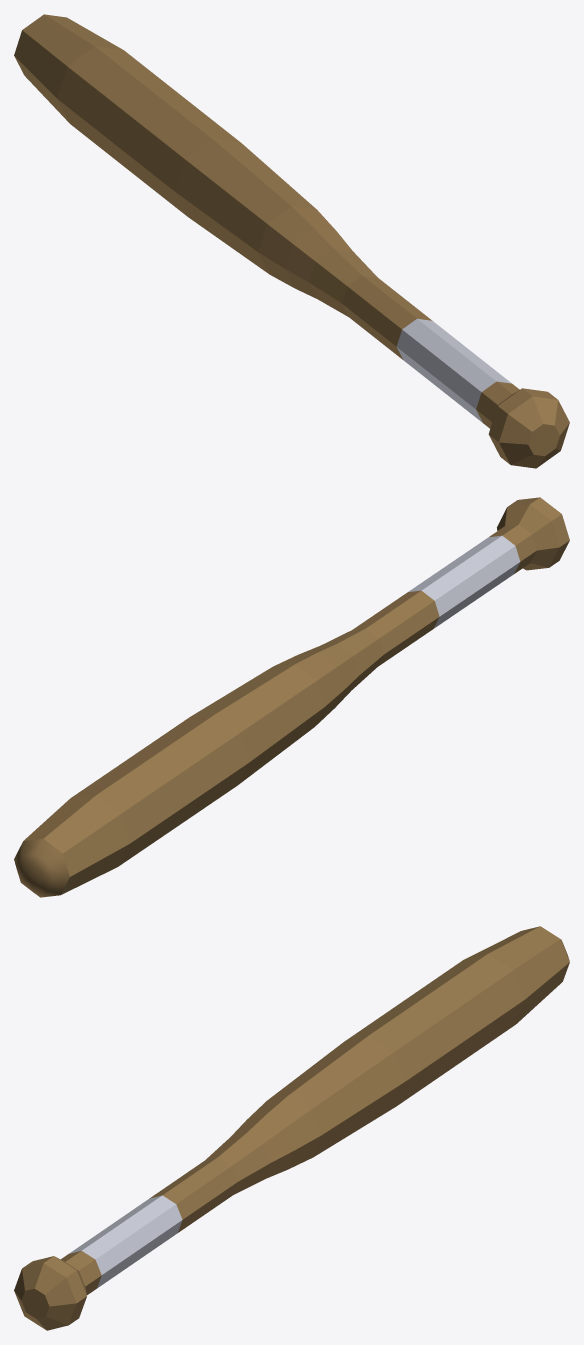
Rendered from Bat.fbx.
The picture shows the model from 3 angles, top to bottom: view 1: azimuth 30°, elevation 25°; view 2: azimuth 150°, elevation 25°; view 3: azimuth 330°, elevation 25°; orthographic projection. The views are drawn at different scales.
Visible parts, largest first — view 1: pCylinder1; view 2: pCylinder1; view 3: pCylinder1.
Boxes of the visible parts, x1,y1,x2,y2 form: pCylinder1: (14,14,569,468); pCylinder1: (14,497,569,897); pCylinder1: (14,926,569,1330).
Bounding box in the file's own units: 0.0237 × 0.019 × 0.2231.
